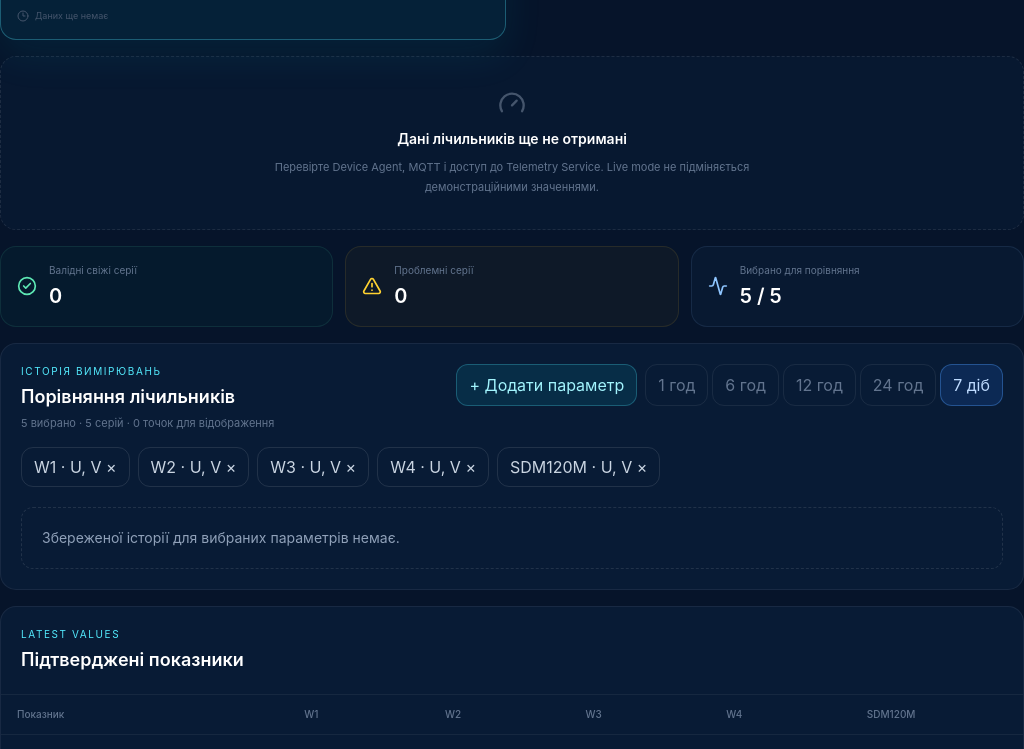
Scenario: permits empty selection and cancels draft changes
The image size is (1024, 749).
(page scrolled)
Click the button "+ Додати параметр" at (547, 384), box [456,364,637,406]
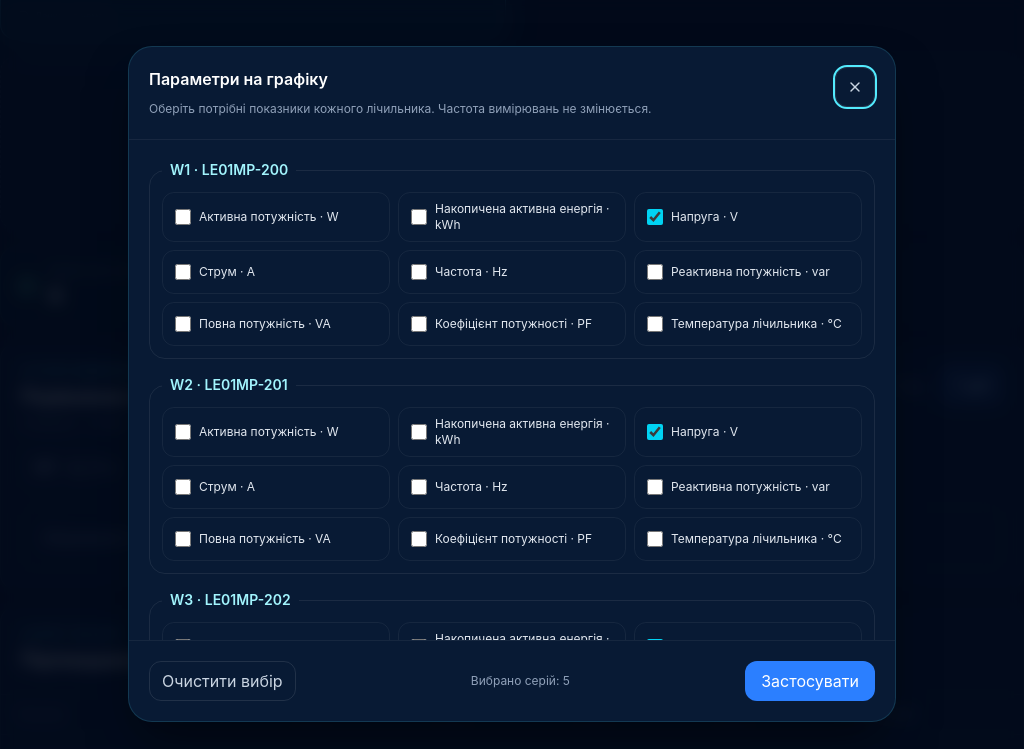
Click the button "Очистити вибір" at (222, 681), box [149,661,296,701]
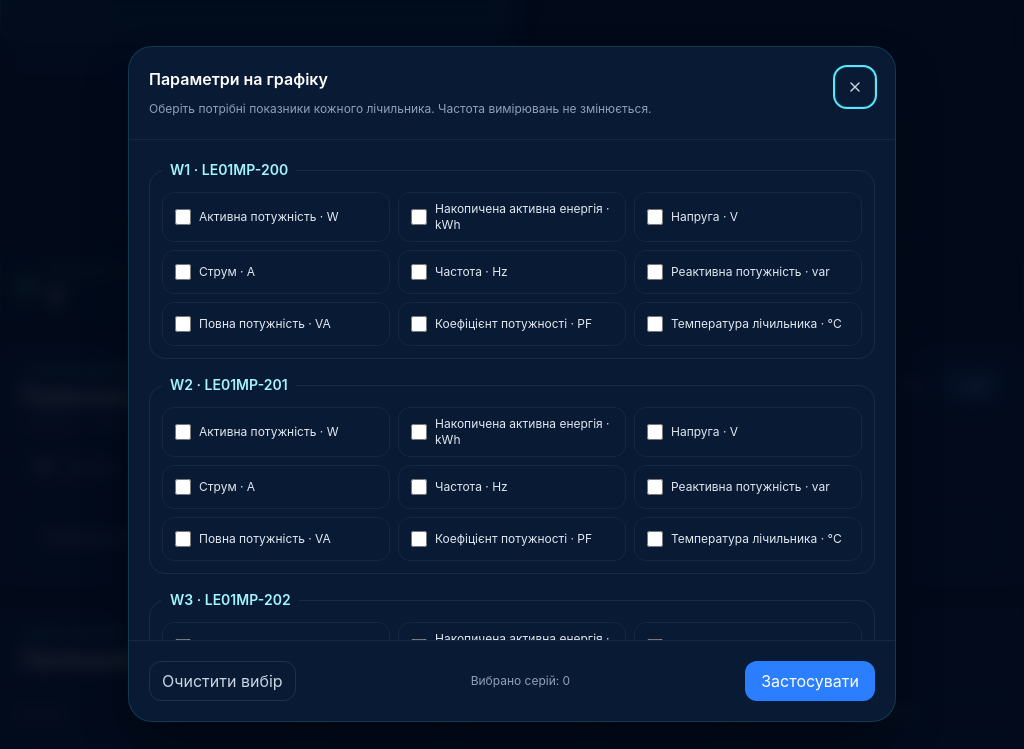
Click the button named "Закрити вибір параметрів" at (855, 87), box [835,67,875,107]
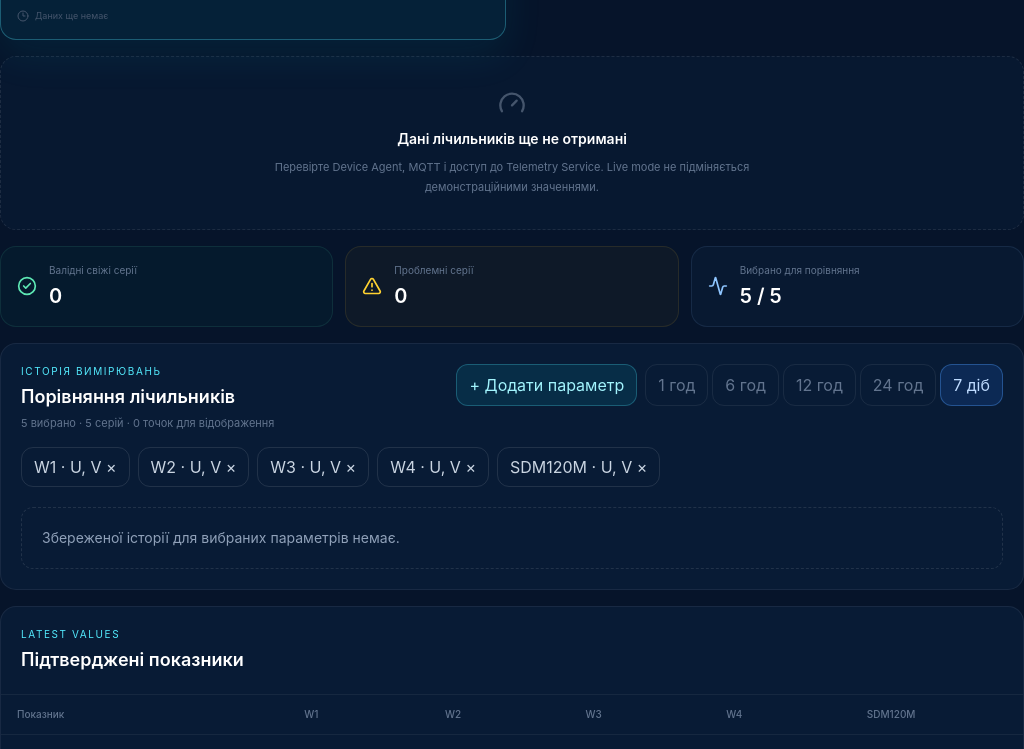
Check: the number of buttons named "Прибрати" is 5, box [21,447,130,487]; [138,447,249,487]; [257,447,369,487]; [377,447,489,487]; [497,447,660,487]
Click the button "+ Додати параметр" at (547, 384), box [456,364,637,406]
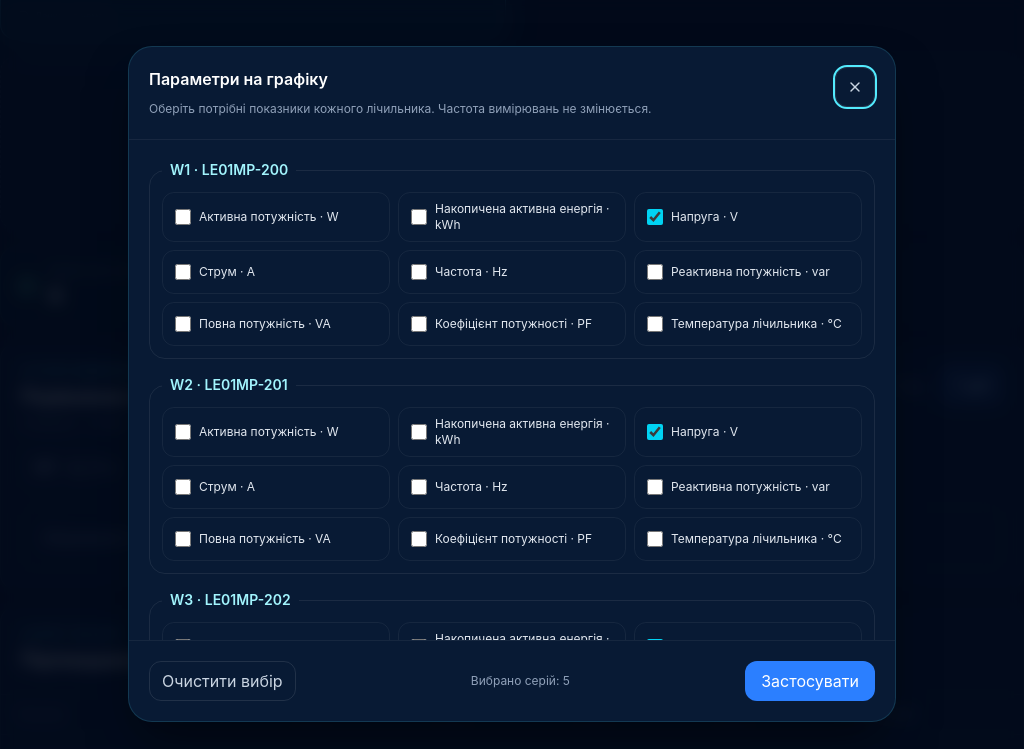
Click the button "Очистити вибір" at (222, 681), box [149,661,296,701]
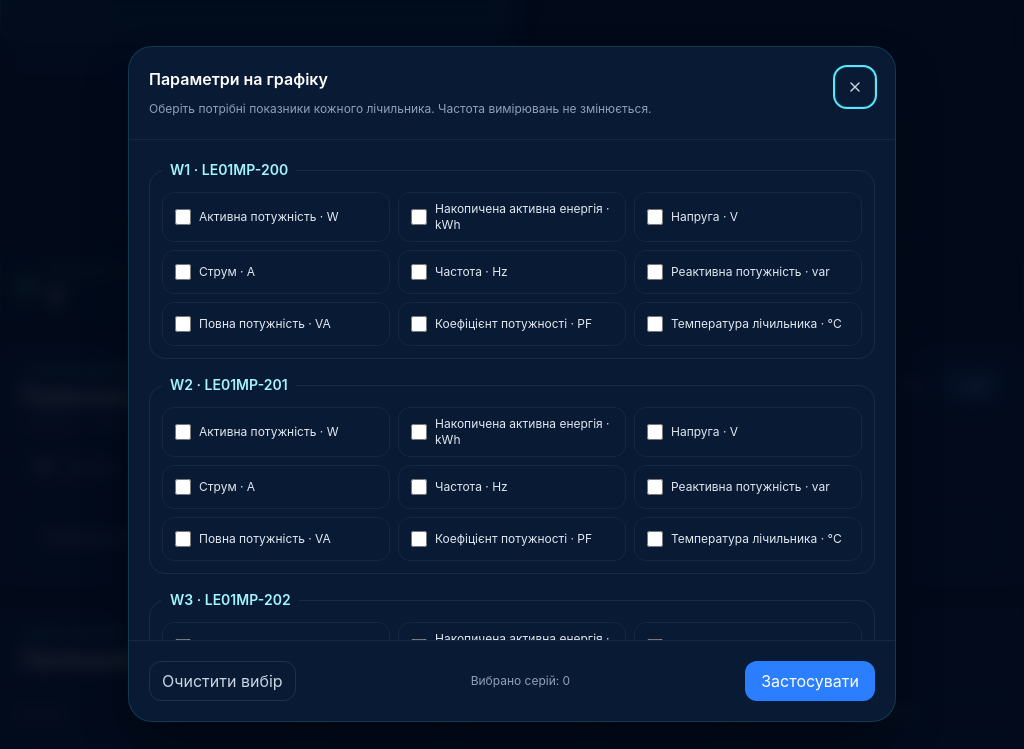
Click the button "Застосувати" at (810, 681), box [745,661,875,701]
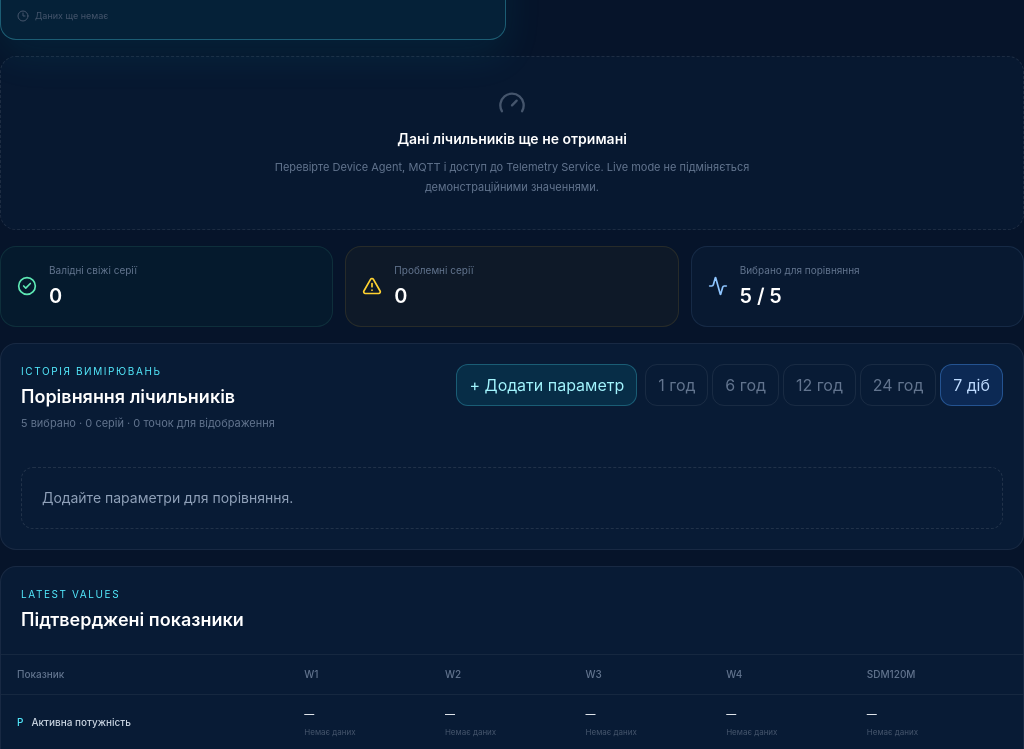
Check: the button "12 год" is shown, box [783,364,856,406]
Check: the text "Додайте параметри для порівняння." is shown, box [21,467,1003,529]
